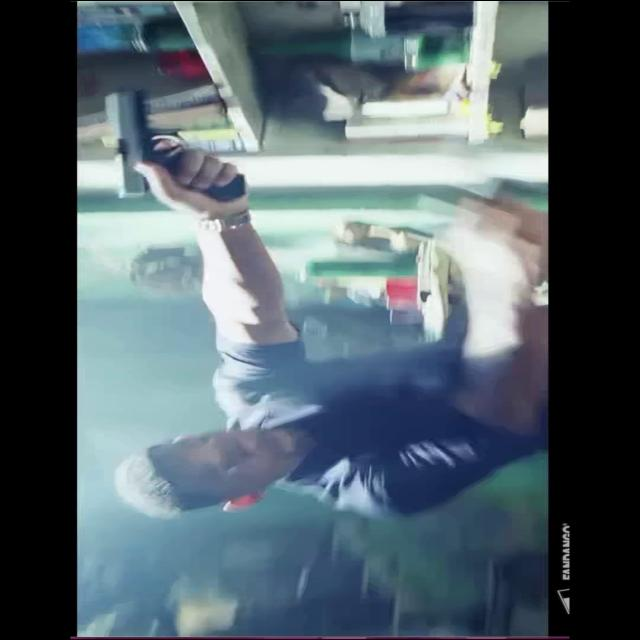weapons: (106, 79, 252, 217)
